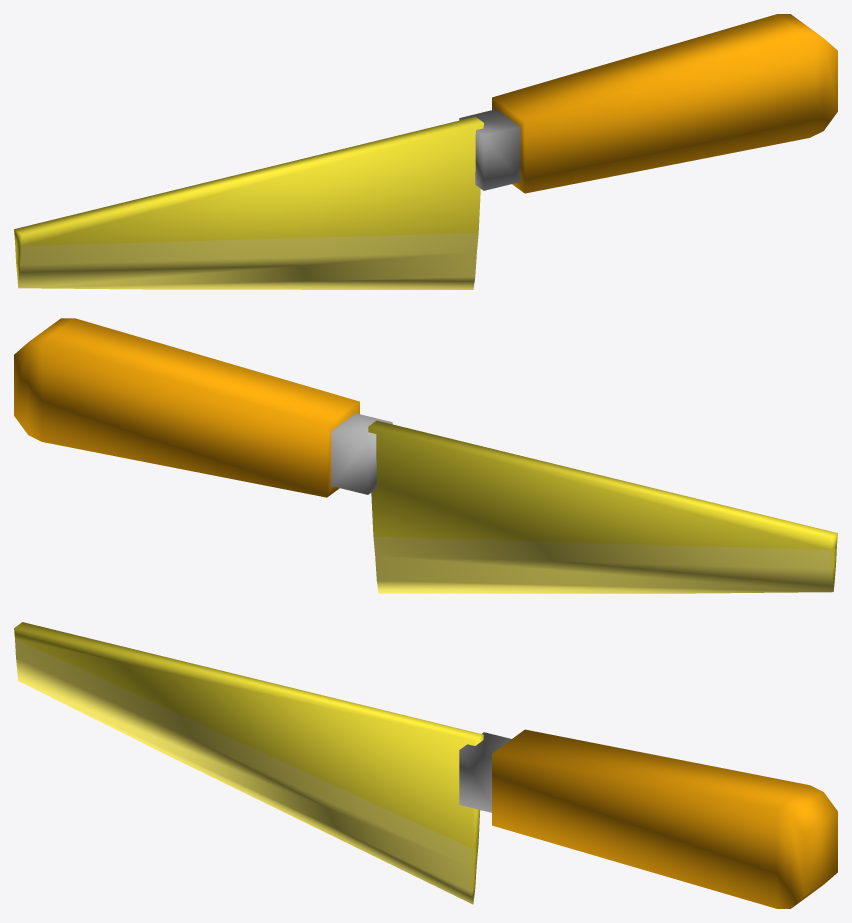
The model's file is knife_lvl_3.fbx.
The picture shows the model from 3 angles, top to bottom: view 1: azimuth 30°, elevation 25°; view 2: azimuth 150°, elevation 25°; view 3: azimuth 330°, elevation 25°; orthographic projection.
Visible parts, largest first — view 1: Knife_lvl_3; view 2: Knife_lvl_3; view 3: Knife_lvl_3.
Part boxes in pixels (box(x1,y1,x2,y2)): Knife_lvl_3: box(14, 14, 837, 289); Knife_lvl_3: box(14, 318, 837, 593); Knife_lvl_3: box(14, 622, 837, 908).
Size of the model in its own units: 2.31 by 0.5098 by 0.1635.
